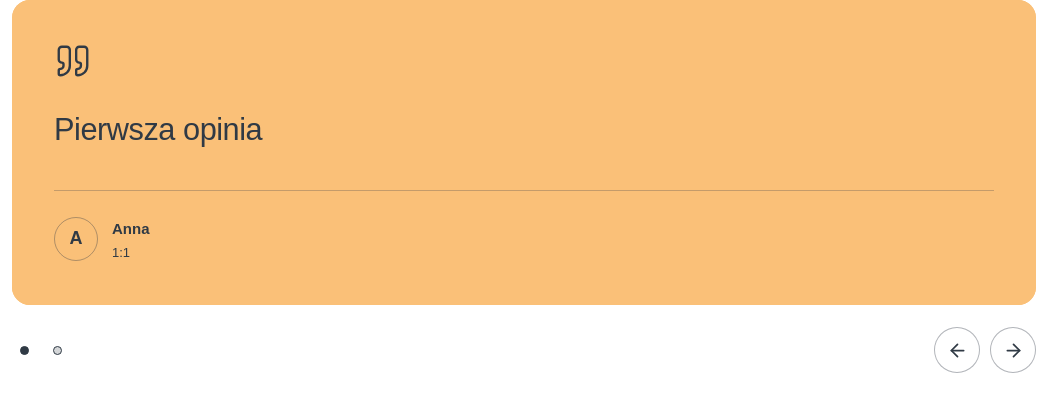
Test case: karuzela opinii › przełącza slajdy przyciskami i klawiaturą, nie udostępnia ukrytych linków
The image size is (1048, 397).
Click the button named "Następna opinia": (1013, 350) [990, 328, 1036, 374]
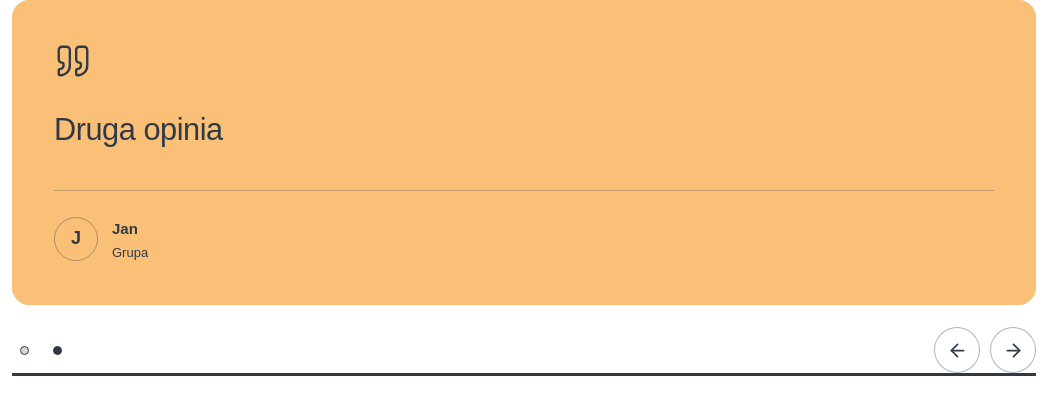
Expected: the element named "2 z 2" is shown
Press Arrowright
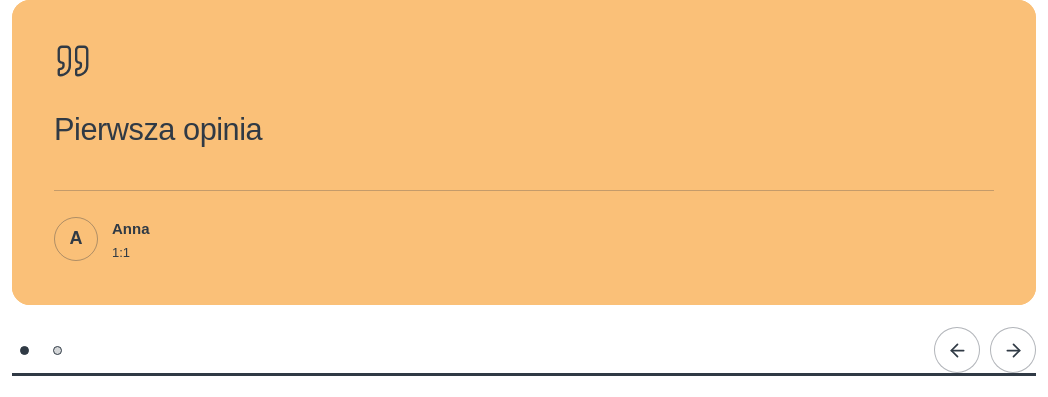
Expected: the element named "1 z 2" is shown
Click the button named "Poprzednia opinia": (957, 350) [934, 328, 980, 374]
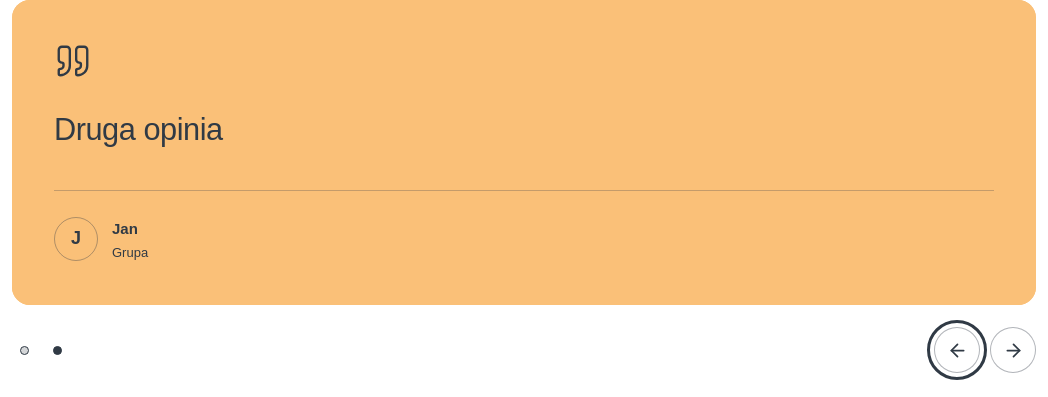
Expected: the element named "2 z 2" is shown
